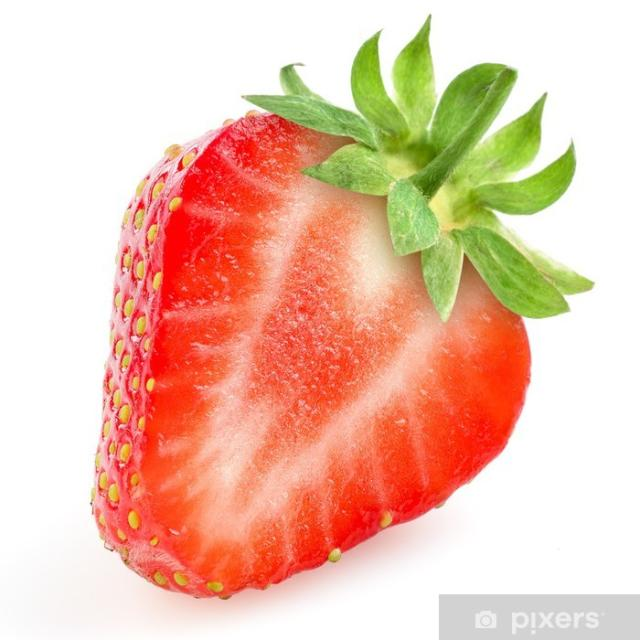strawberry: (85, 73, 562, 604)
